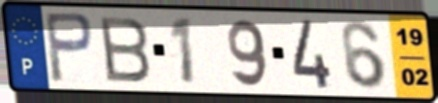1: (164, 15, 197, 87)
4: (290, 17, 334, 91)
6: (339, 19, 391, 93)
9: (225, 17, 270, 89)
B: (96, 14, 154, 85)
P: (42, 10, 97, 86)
